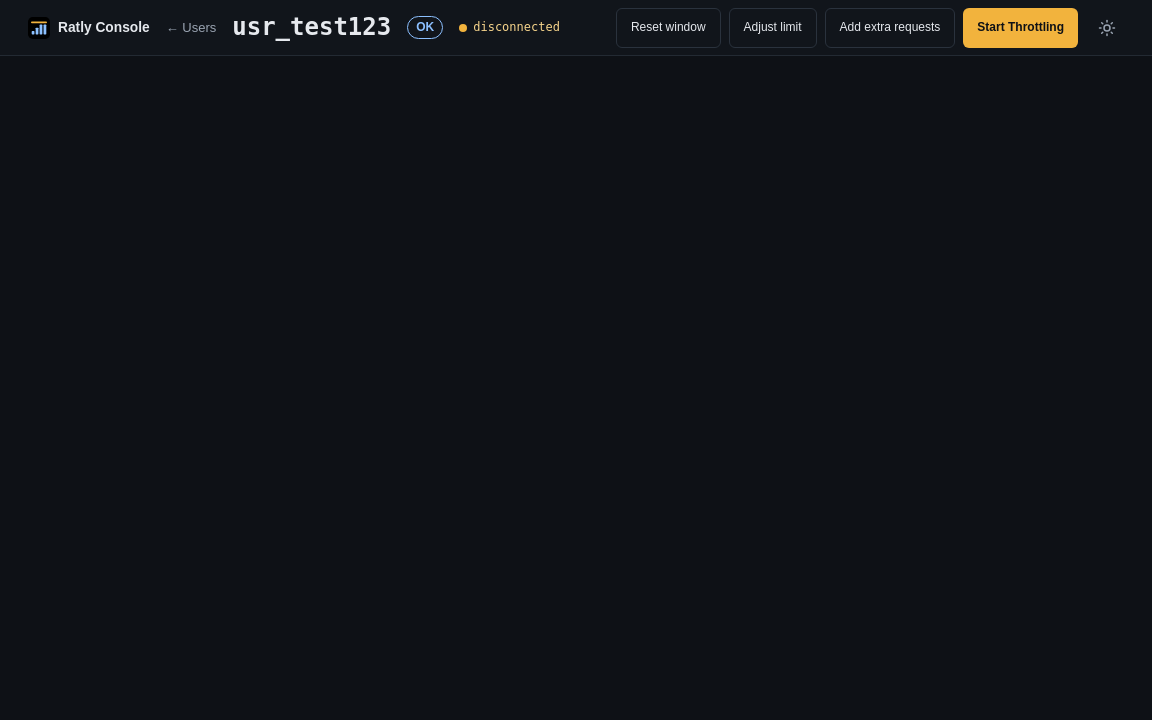
Scenario: UserDetailHeader › opens ThrottlingModal with start variant when isThrottling is true
Click the button "Start Throttling": click(1021, 28) left=963, top=8, right=1078, bottom=48
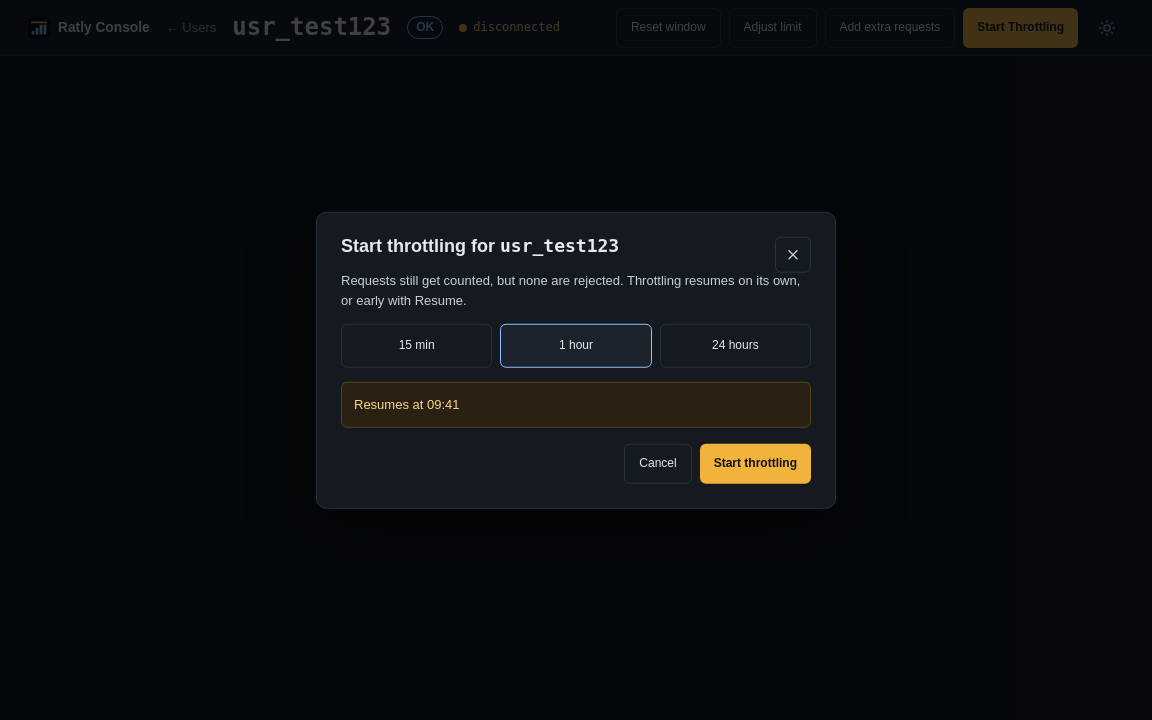
Now the heading with test id "modal-title" shows "Start throttling for", box left=341, top=235, right=619, bottom=256
